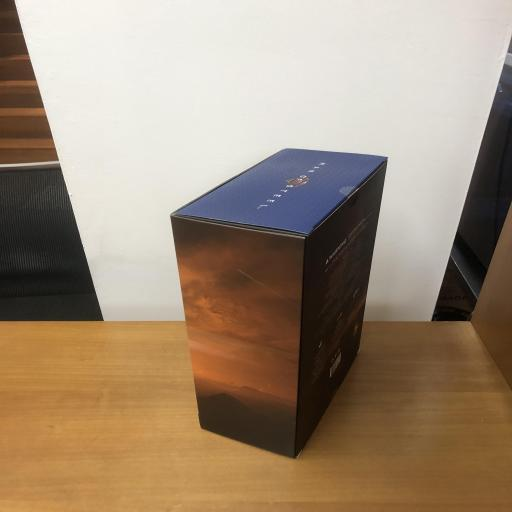superman: (176, 150, 390, 461)
